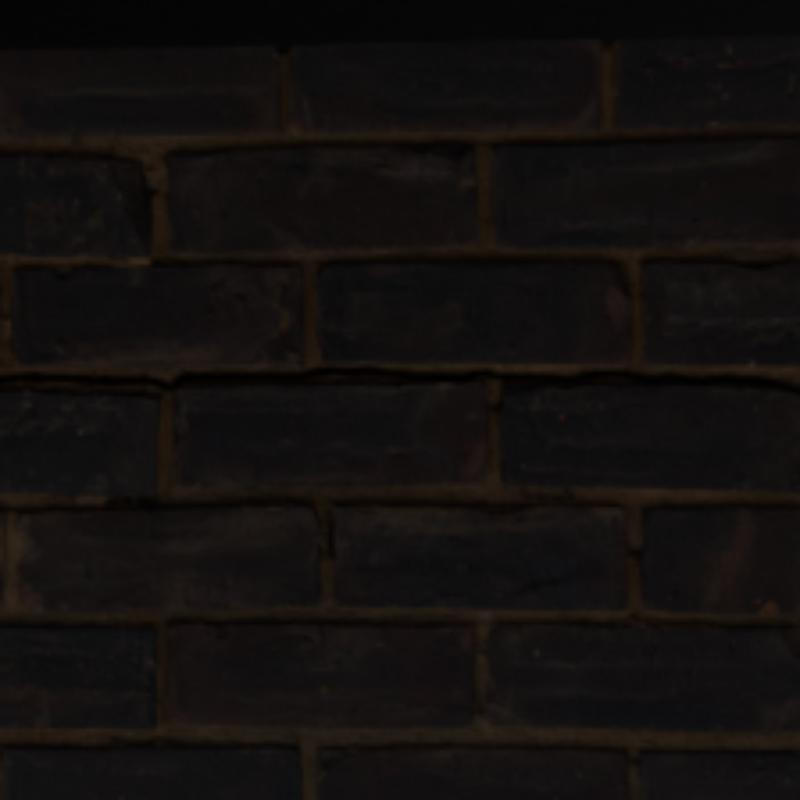pothole: (0, 364, 796, 393)
